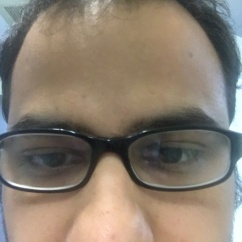glasses: (9, 116, 231, 194)
